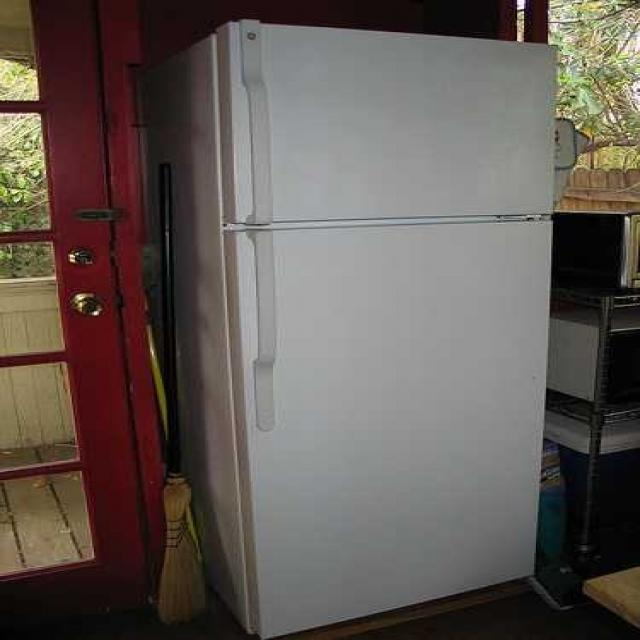refrigerator: (216, 18, 557, 640)
